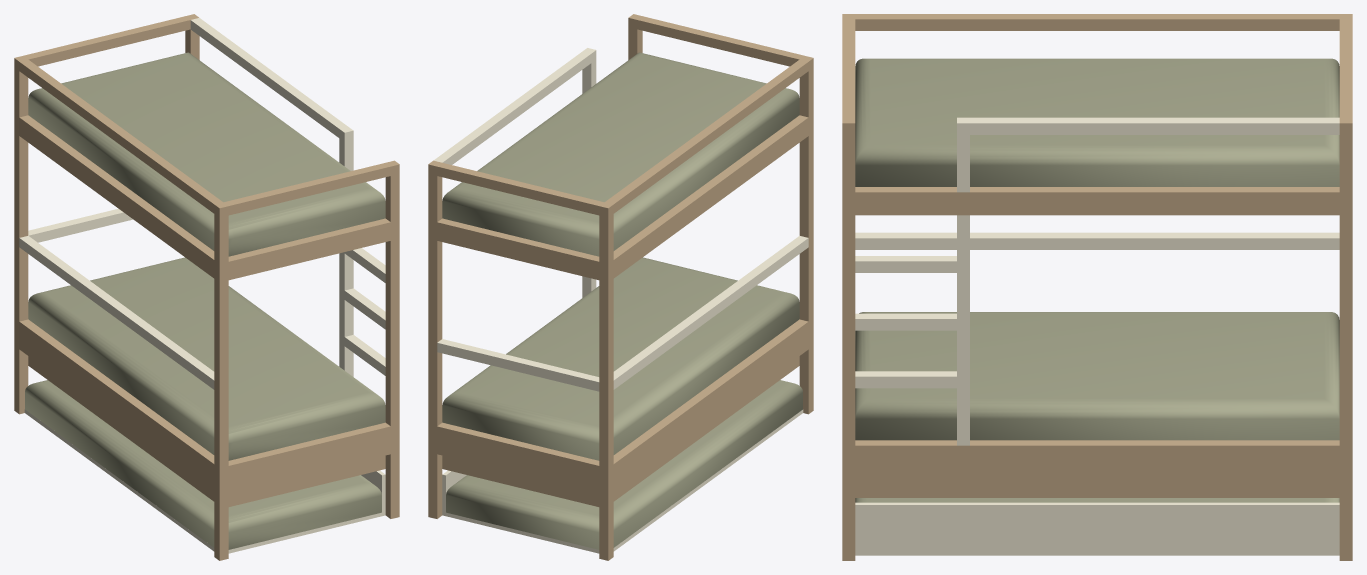
The picture shows the model from 3 angles, left to right: view 1: azimuth 30°, elevation 25°; view 2: azimuth 150°, elevation 25°; view 3: azimuth 270°, elevation 25°; orthographic projection. The views are drawn at different scales.
Visible parts, largest first — view 1: mesh1_mesh1-geometry, mesh4_mesh4-geometry_4, mesh4_mesh4-geometry, mesh4_mesh4-geometry_2, mesh2_mesh2-geometry, mesh6_mesh6-geometry, mesh5_mesh5-geometry, mesh7_mesh7-geometry, mesh8_mesh8-geometry; view 2: mesh1_mesh1-geometry, mesh4_mesh4-geometry, mesh4_mesh4-geometry_4, mesh4_mesh4-geometry_2, mesh2_mesh2-geometry, mesh6_mesh6-geometry, mesh7_mesh7-geometry, mesh8_mesh8-geometry; view 3: mesh4_mesh4-geometry_4, mesh4_mesh4-geometry, mesh1_mesh1-geometry, mesh8_mesh8-geometry, mesh2_mesh2-geometry, mesh6_mesh6-geometry, mesh5_mesh5-geometry, mesh7_mesh7-geometry, mesh4_mesh4-geometry_2.
Boxes of the visible parts, x1=… form: mesh1_mesh1-geometry: x1=14, y1=114, x2=399, y2=560; mesh4_mesh4-geometry_4: x1=28, y1=257, x2=385, y2=460; mesh4_mesh4-geometry: x1=28, y1=52, x2=385, y2=256; mesh4_mesh4-geometry_2: x1=25, y1=380, x2=381, y2=549; mesh2_mesh2-geometry: x1=14, y1=14, x2=399, y2=263; mesh6_mesh6-geometry: x1=19, y1=208, x2=214, y2=389; mesh5_mesh5-geometry: x1=339, y1=248, x2=385, y2=376; mesh7_mesh7-geometry: x1=190, y1=18, x2=353, y2=170; mesh8_mesh8-geometry: x1=24, y1=409, x2=385, y2=553; mesh1_mesh1-geometry: x1=428, y1=114, x2=813, y2=560; mesh4_mesh4-geometry: x1=442, y1=52, x2=799, y2=256; mesh4_mesh4-geometry_4: x1=442, y1=257, x2=799, y2=460; mesh4_mesh4-geometry_2: x1=446, y1=380, x2=802, y2=549; mesh2_mesh2-geometry: x1=428, y1=14, x2=813, y2=263; mesh6_mesh6-geometry: x1=437, y1=235, x2=808, y2=391; mesh7_mesh7-geometry: x1=433, y1=48, x2=596, y2=164; mesh8_mesh8-geometry: x1=442, y1=409, x2=803, y2=553; mesh4_mesh4-geometry_4: x1=855, y1=312, x2=1339, y2=440; mesh4_mesh4-geometry: x1=855, y1=58, x2=1339, y2=186; mesh1_mesh1-geometry: x1=842, y1=187, x2=1352, y2=560; mesh8_mesh8-geometry: x1=855, y1=502, x2=1339, y2=555; mesh2_mesh2-geometry: x1=842, y1=14, x2=1352, y2=192; mesh6_mesh6-geometry: x1=855, y1=232, x2=1339, y2=249; mesh5_mesh5-geometry: x1=855, y1=215, x2=969, y2=445; mesh7_mesh7-geometry: x1=957, y1=117, x2=1339, y2=192; mesh4_mesh4-geometry_2: x1=855, y1=498, x2=1339, y2=502.
Bounding box in the file's own units: 0.3451 × 0.6453 × 0.6815.
